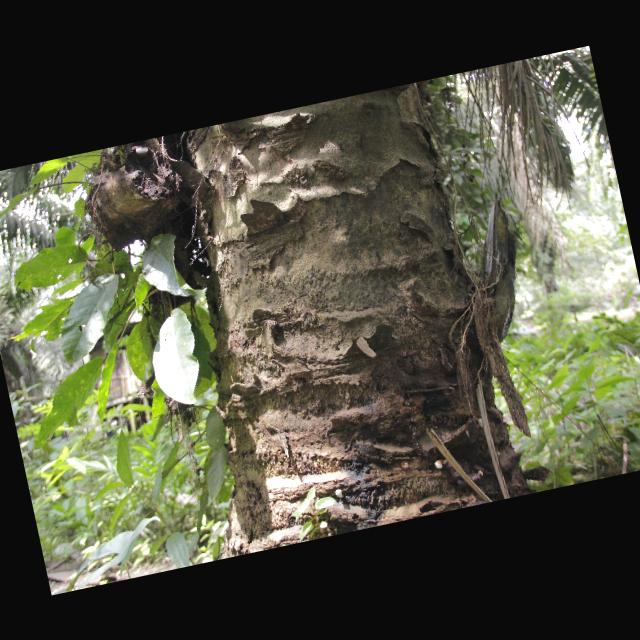ganoderma: (444, 454, 482, 492)
primordium: (435, 460, 445, 471), (336, 489, 346, 500), (479, 419, 485, 429), (479, 470, 485, 478)
